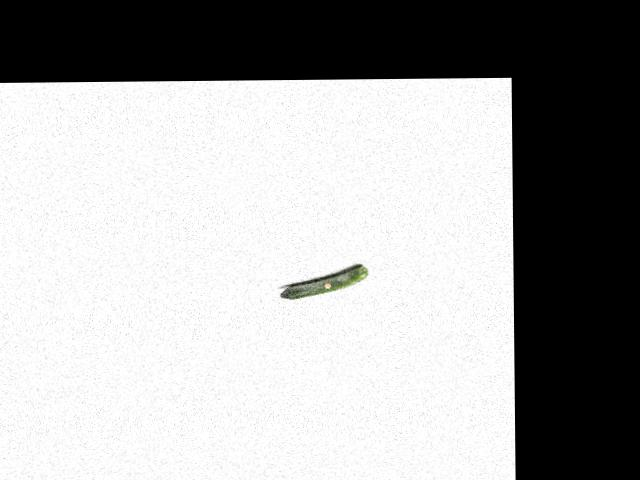cucumber: (280, 265, 369, 299)
